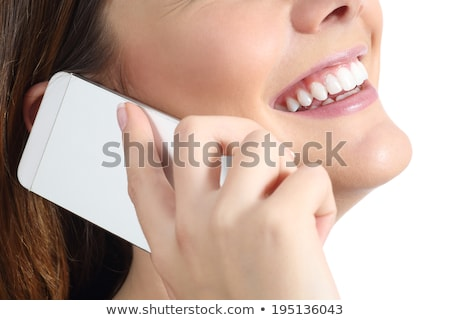phone: (6, 70, 257, 257)
